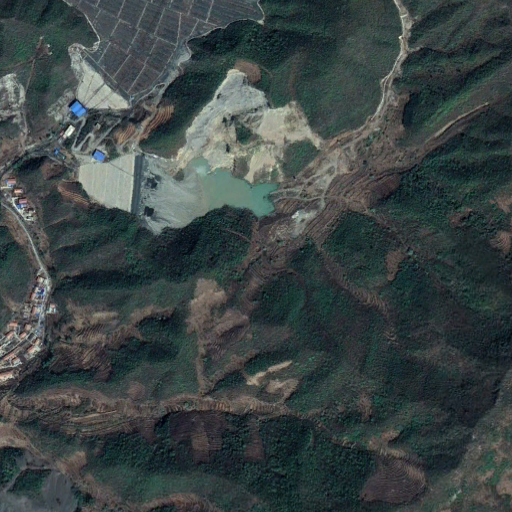tp: (78, 151, 277, 233)
